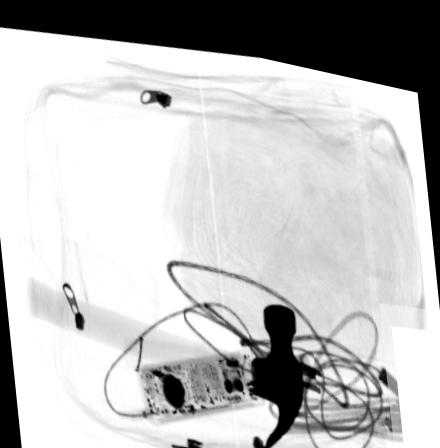Hammer: (30, 275, 304, 444)
